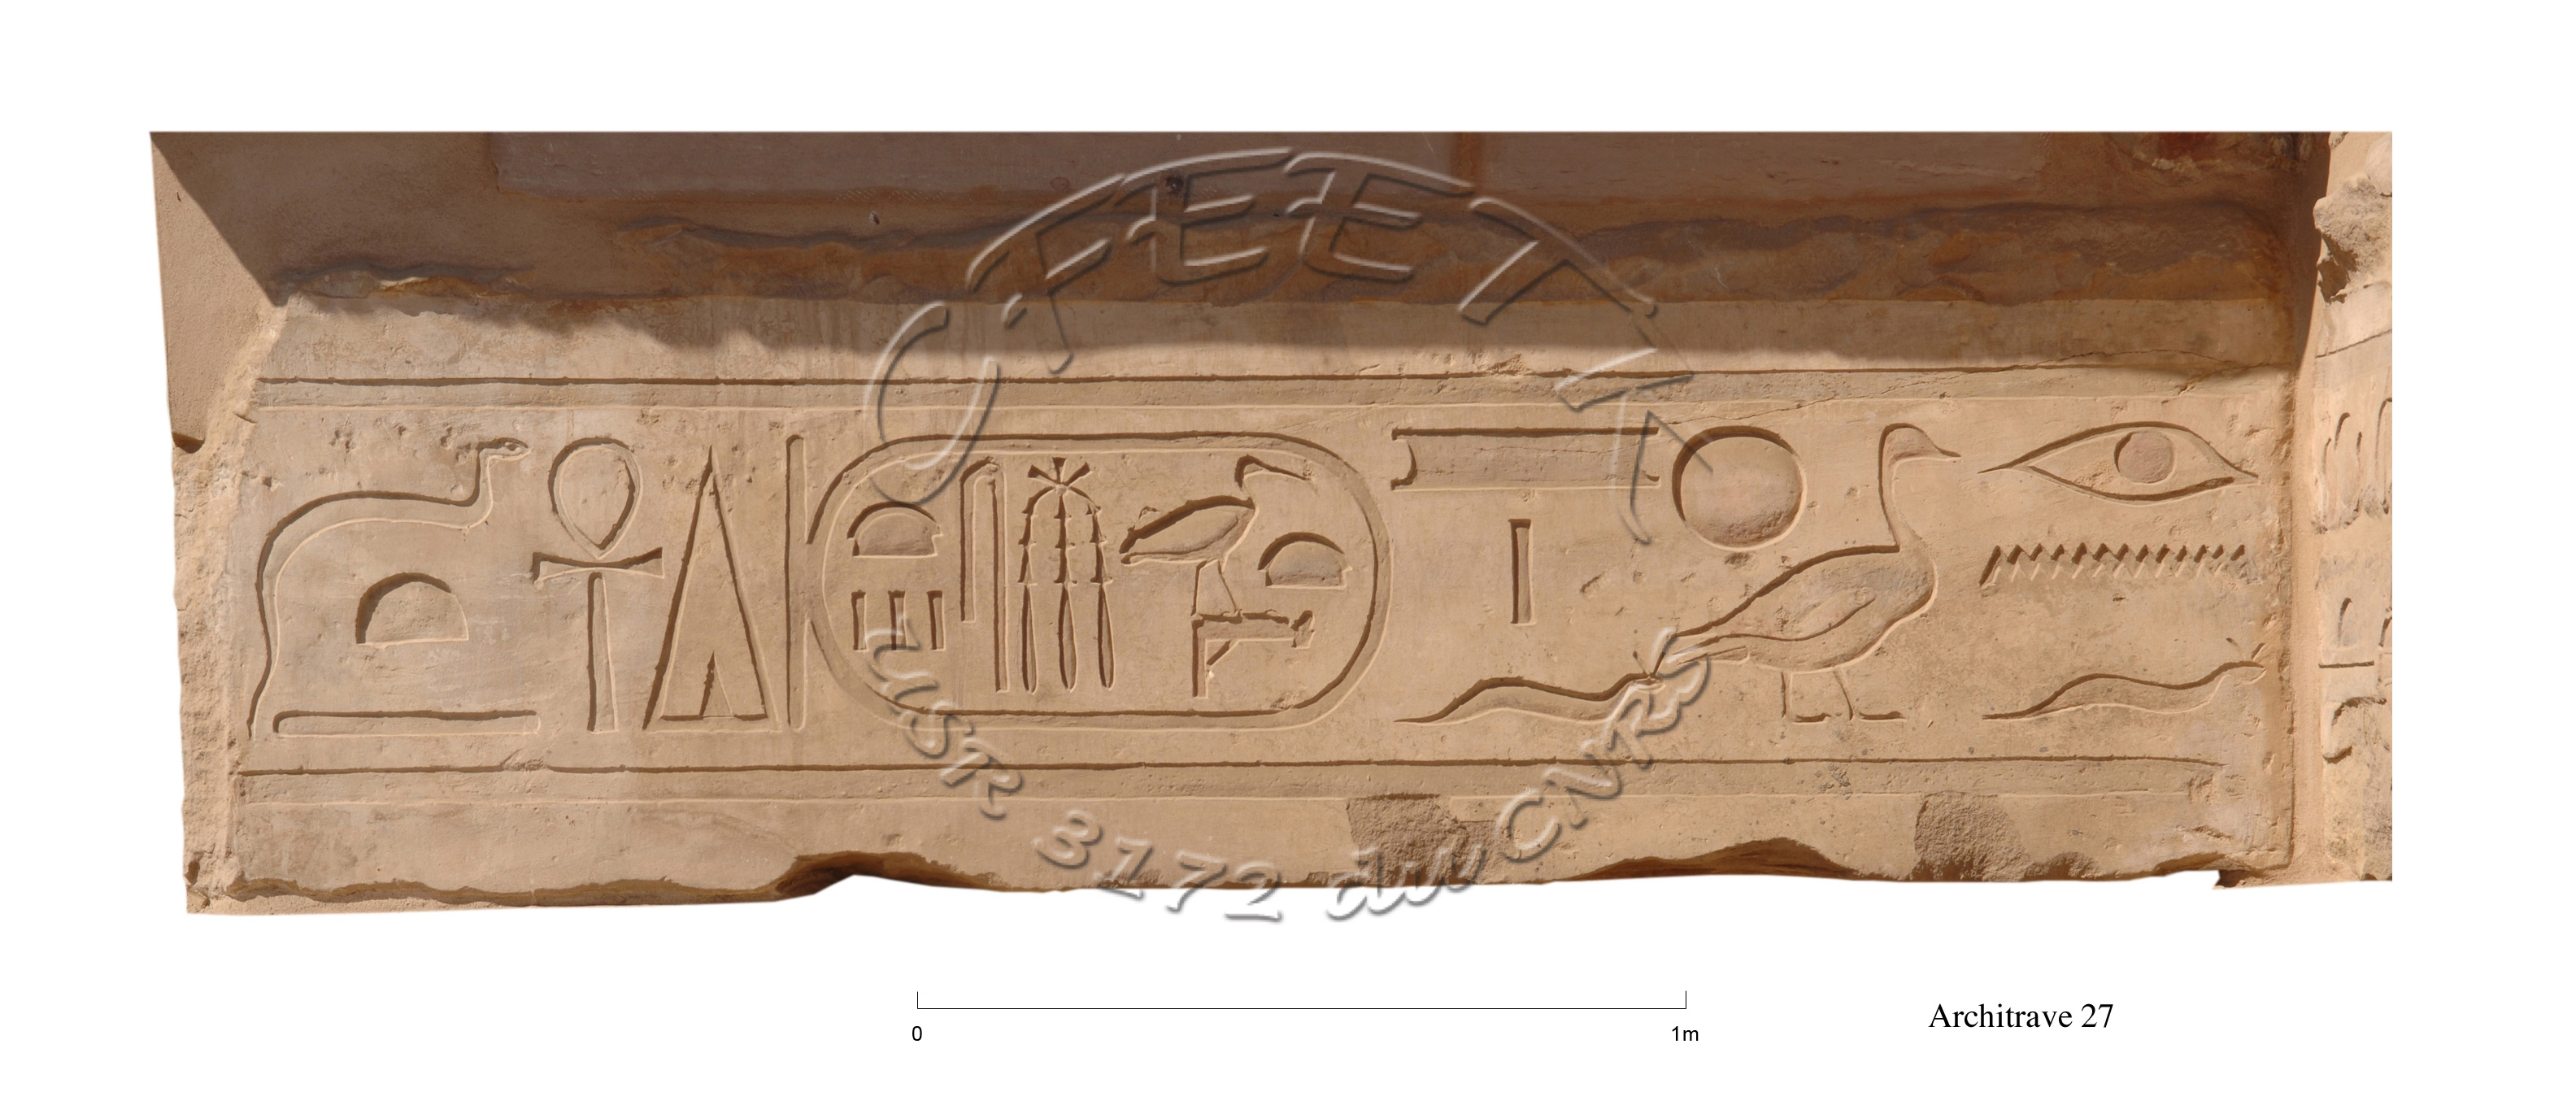D4: (1970, 410, 2267, 519)
I10: (238, 412, 536, 742)
N35: (1952, 525, 2274, 621)
X8: (634, 438, 789, 745)
